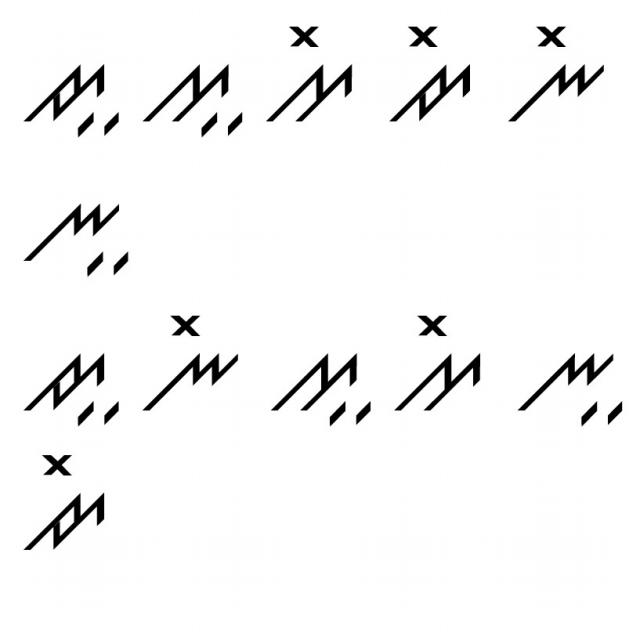jah: (16, 347, 126, 432), (18, 59, 123, 148)
jo: (378, 12, 476, 133), (18, 448, 110, 560)
nyah: (23, 192, 137, 290), (514, 340, 626, 428)
nyo: (504, 23, 616, 127), (143, 302, 242, 419)
sah: (269, 342, 375, 433), (140, 63, 248, 138)
so: (393, 308, 489, 417), (260, 21, 357, 128)
